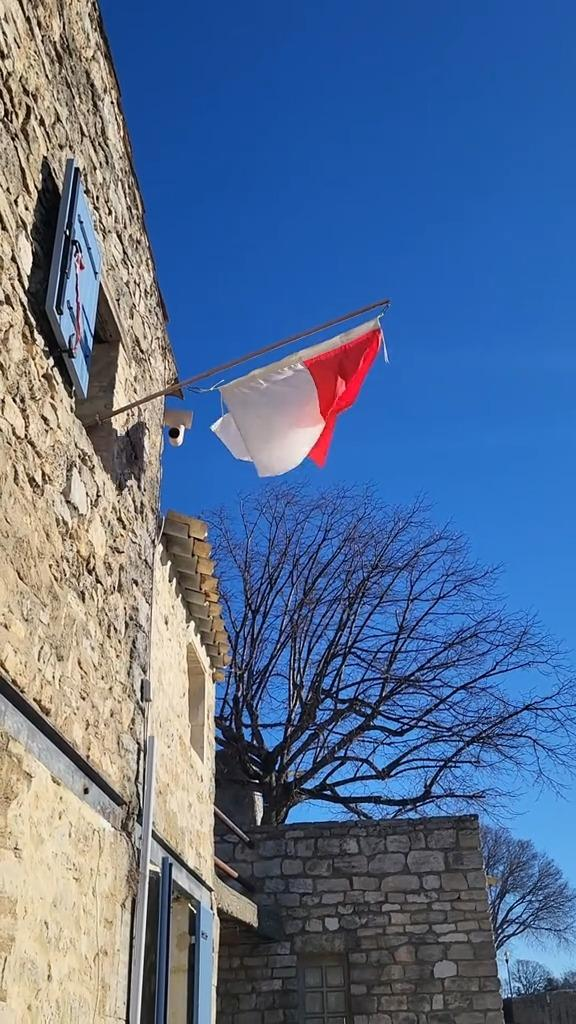Indonesia: (218, 320, 388, 475)
